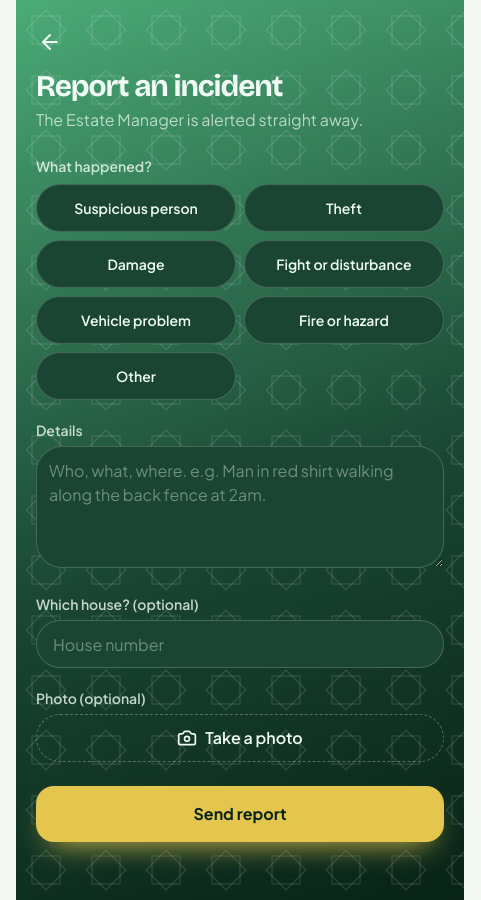
Test case: Incident reports › sends the report with the house and unit
Click the button "Send report" at (240, 814), box [36,786,444,842]
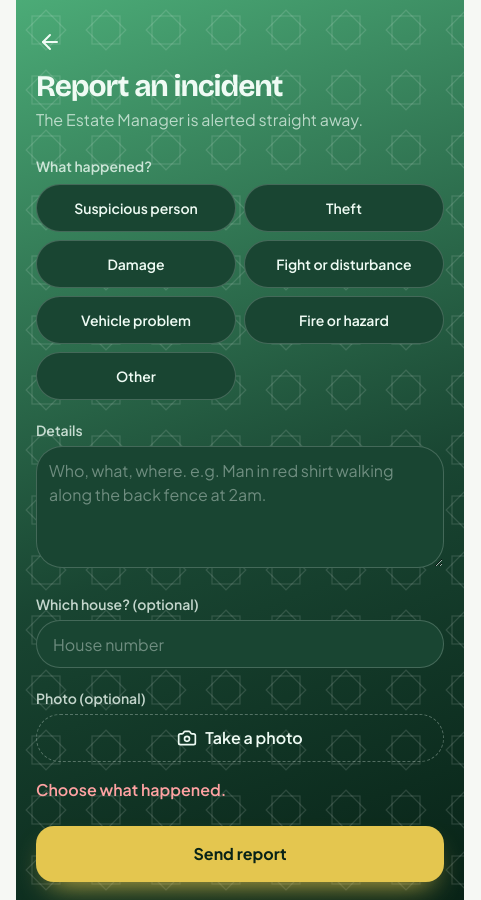
Result: the message shows "Choose what happened" at [36,779,226,800]
Click the radio button labelled "Suspicious person" at (136, 208), box [36,184,236,232]
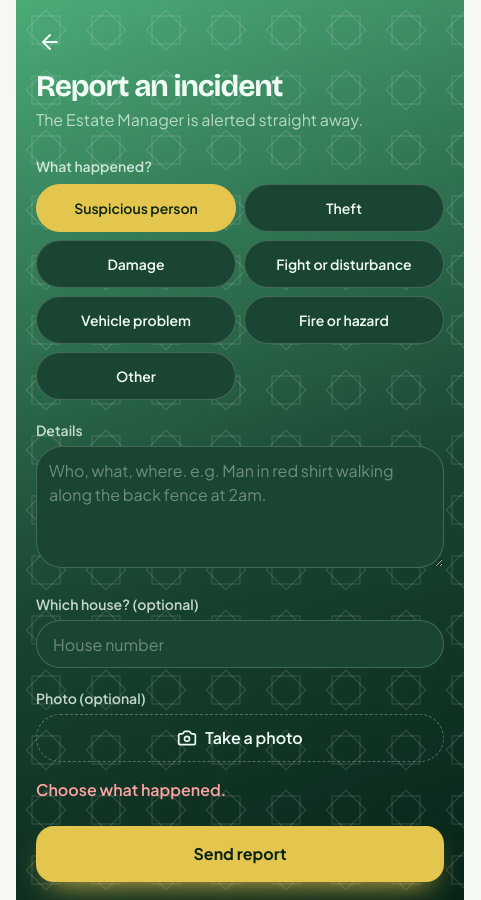
Replace the text in the text box labelled "Details" with "Man by the back fence" at (240, 507), box [36,446,444,568]
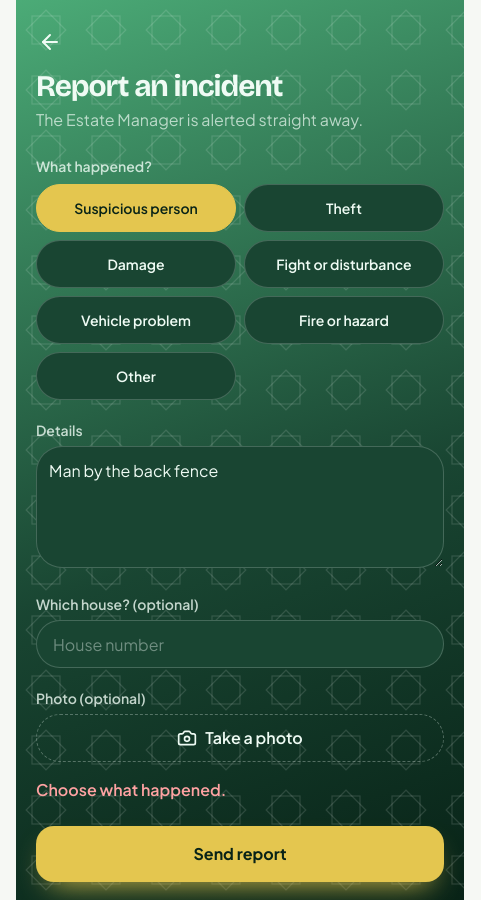
Type "14" into the field with placeholder "House number" at (240, 644), box [36,620,444,668]
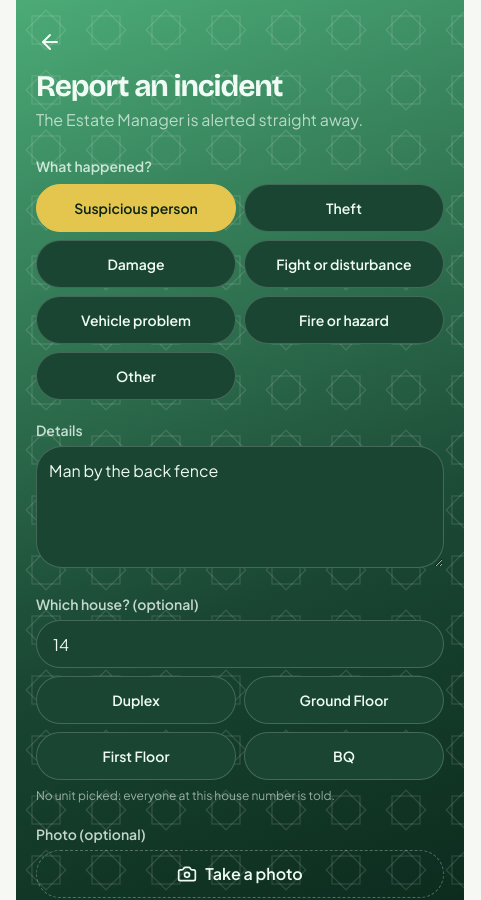
Click the button "Duplex" at (136, 700), box [36,676,236,724]
(page scrolled)
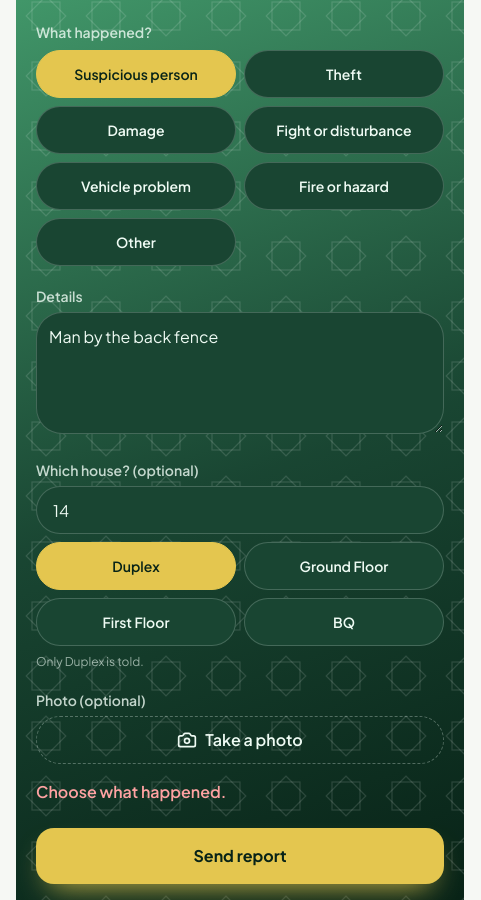
Click the button "Send report" at (240, 856), box [36,828,444,884]
(page scrolled)
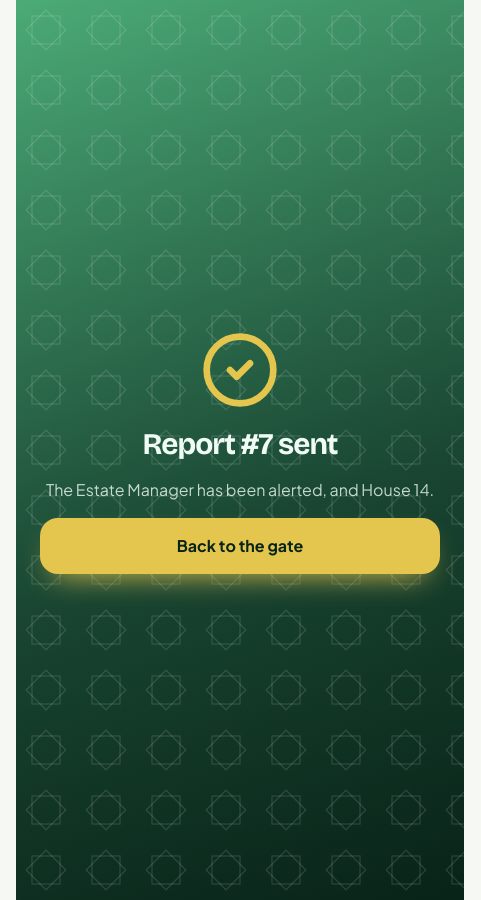
Result: the heading "Report #7 sent" is shown at [143,426,338,462]
